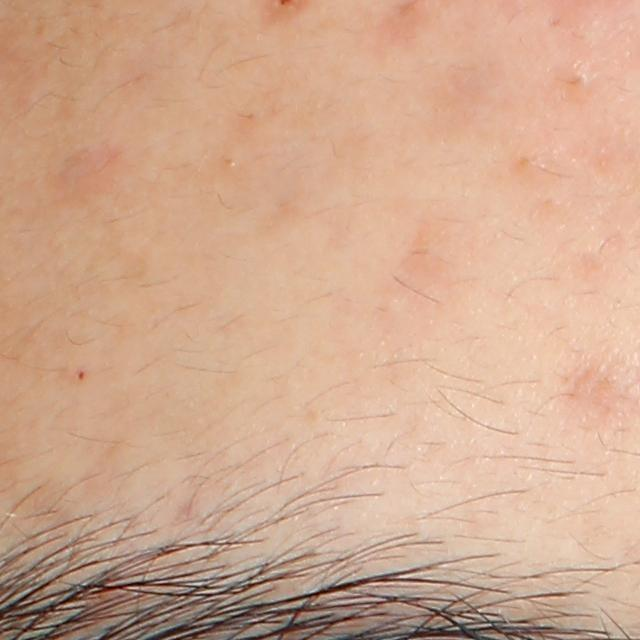comedo: (559, 57, 601, 97)
